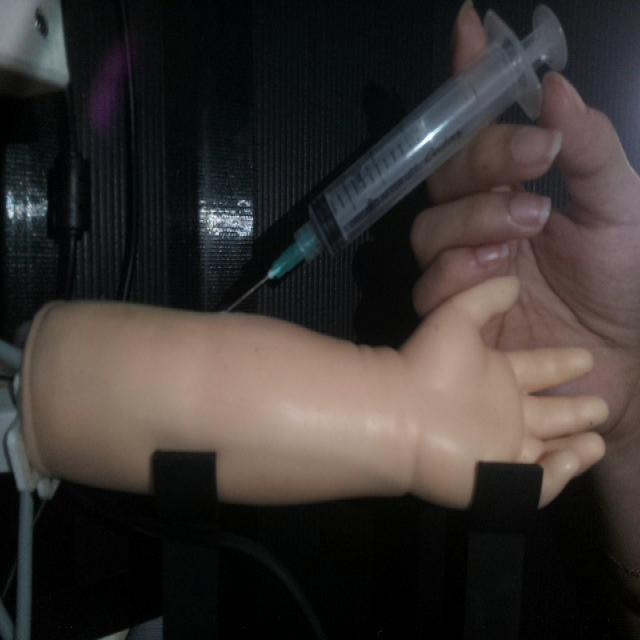Above 30 degrees: (219, 3, 569, 313)
